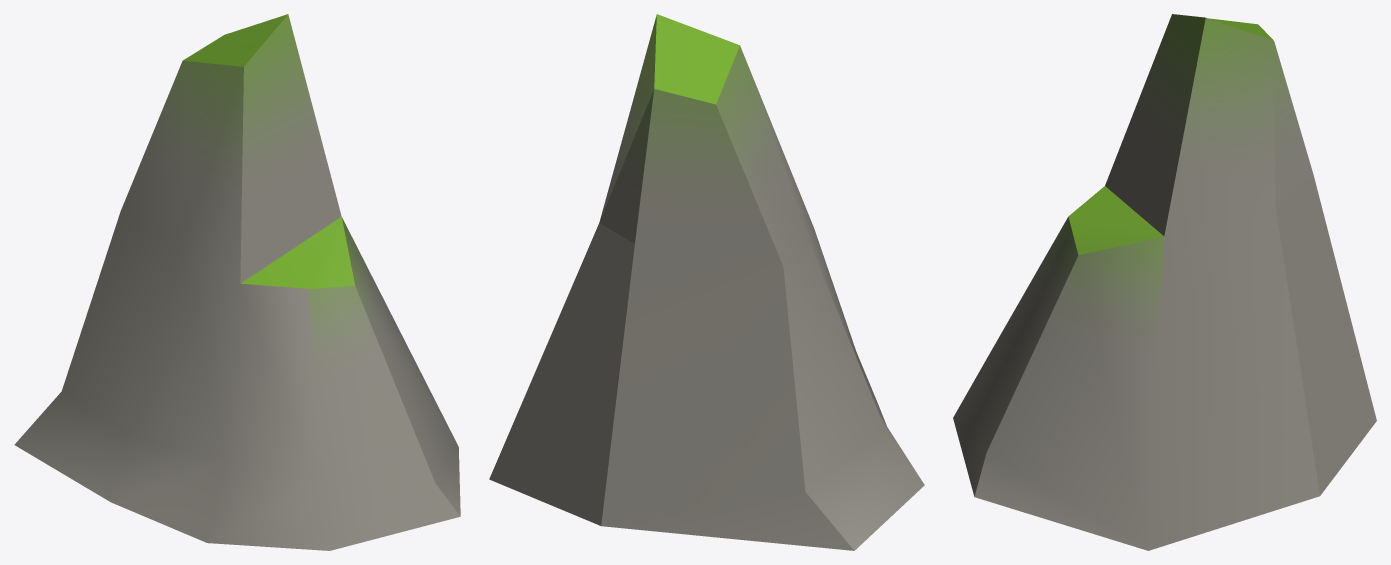
File: Rock_1.fbx
The picture shows the model from 3 angles, left to right: view 1: azimuth 30°, elevation 25°; view 2: azimuth 150°, elevation 25°; view 3: azimuth 270°, elevation 25°; orthographic projection. The views are drawn at different scales.
Parts seen in each view (by area): view 1: polySurface1; view 2: polySurface1; view 3: polySurface1.
Part boxes in pixels (x1,y1,x2,y2): polySurface1: [14, 14, 460, 550]; polySurface1: [489, 14, 924, 550]; polySurface1: [953, 14, 1376, 550].
Bounding box in the file's own units: 170 × 196 × 163.
